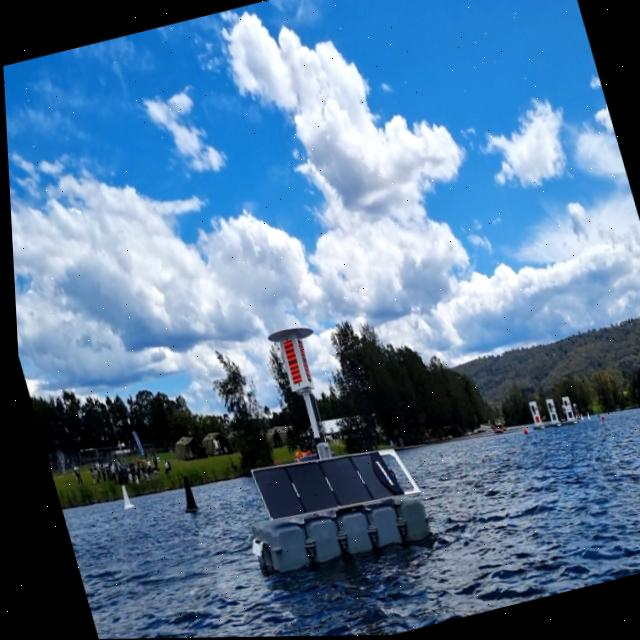led: (276, 337, 301, 387)
